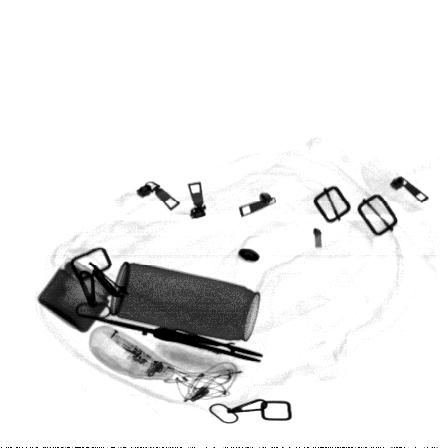Knife: (71, 312, 264, 365)
